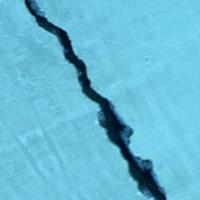crack: (18, 0, 164, 195)
